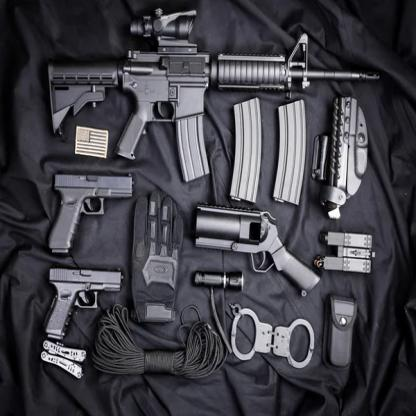Gun: (45, 2, 381, 187)
Knife: (40, 349, 84, 381), (41, 337, 88, 364)
Pistol: (192, 197, 321, 300), (48, 170, 136, 255), (43, 263, 125, 338)
